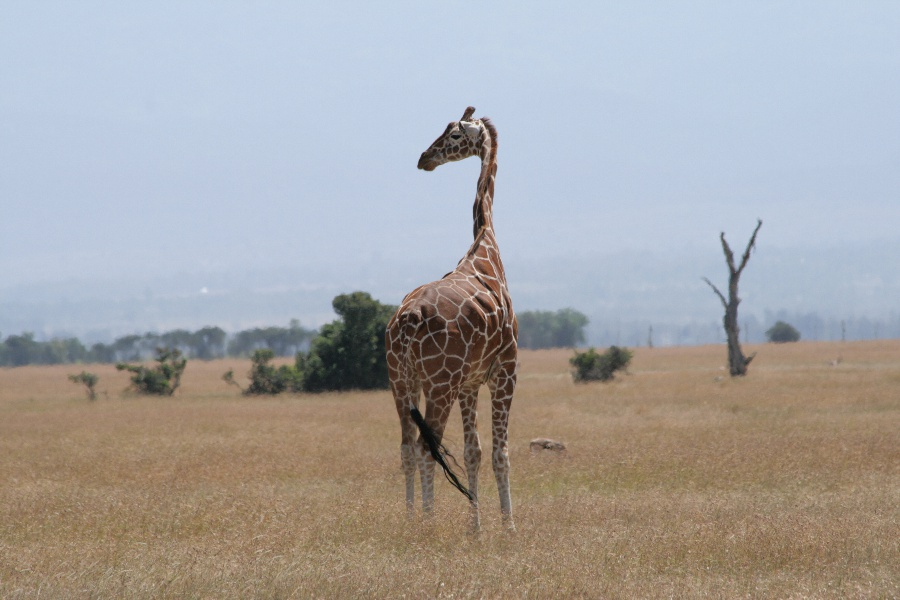giraffe: (382, 100, 521, 550)
